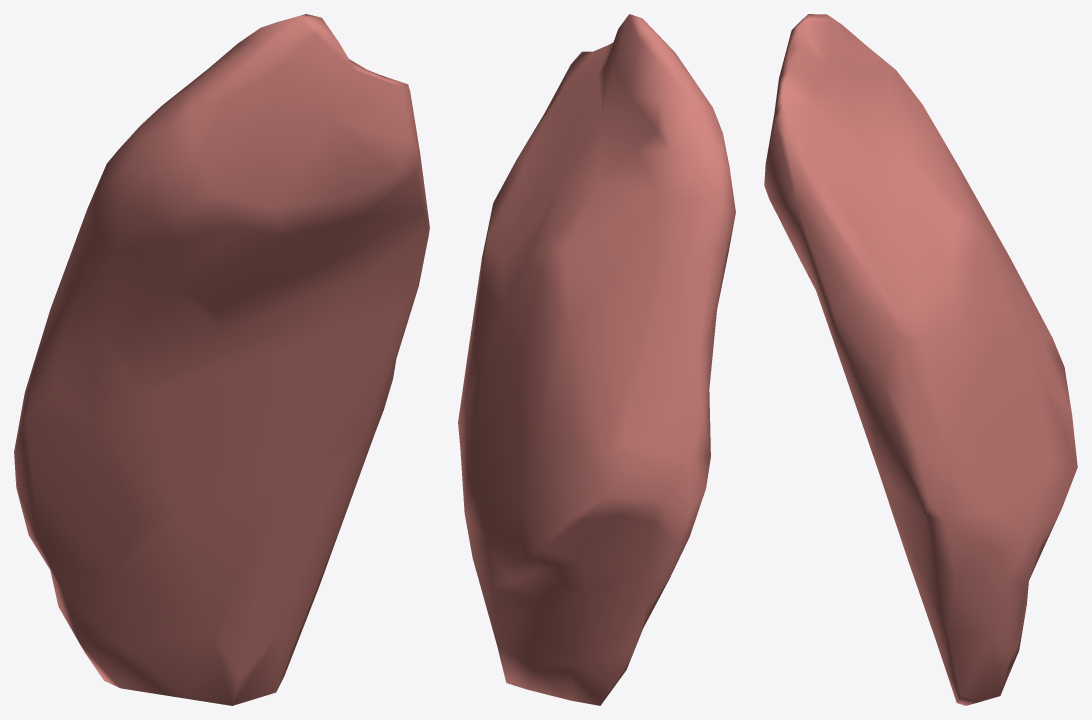
File: fma81560_mm1329.glb
The picture shows the model from 3 angles, left to right: view 1: azimuth 30°, elevation 25°; view 2: azimuth 150°, elevation 25°; view 3: azimuth 270°, elevation 25°; orthographic projection. The views are drawn at different scales.
Parts seen in each view (by area): view 1: FMA81560_MM1329; view 2: FMA81560_MM1329; view 3: FMA81560_MM1329.
Part boxes in pixels (<box>): FMA81560_MM1329: <box>14,14,429,705</box>; FMA81560_MM1329: <box>458,14,735,705</box>; FMA81560_MM1329: <box>764,14,1077,705</box>.
Size of the model in its own units: 0.00517 by 0.0112 by 0.00477.
